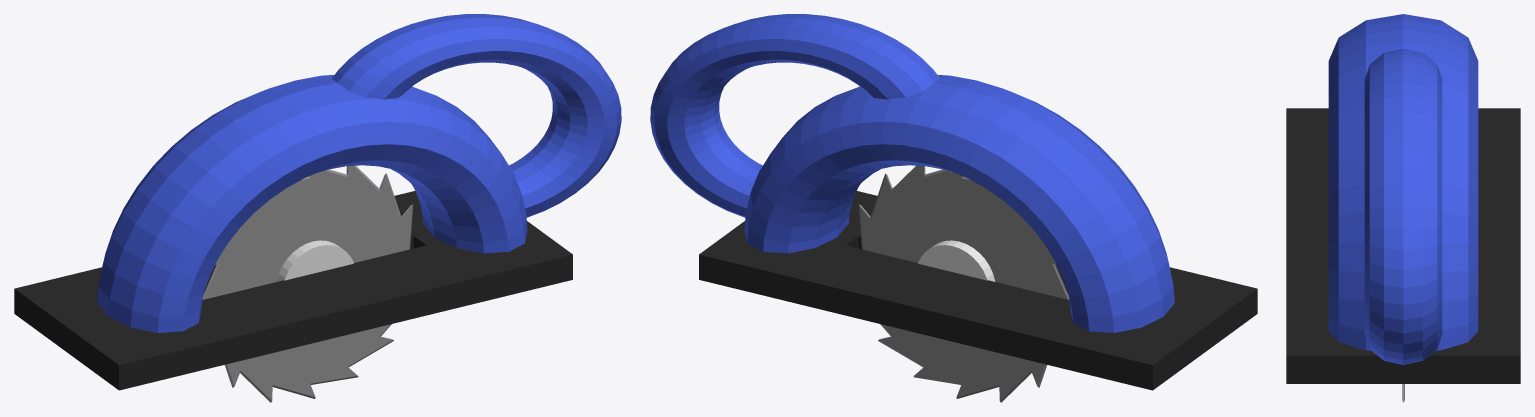
The model's file is bansaw.fbx.
The picture shows the model from 3 angles, left to right: view 1: azimuth 30°, elevation 25°; view 2: azimuth 150°, elevation 25°; view 3: azimuth 270°, elevation 25°; orthographic projection. The views are drawn at different scales.
Visible parts, largest first — view 1: Torus.001, Cube, Torus, Circle, Circle.001; view 2: Torus.001, Cube, Torus, Circle, Circle.001; view 3: Cube, Torus.001, Torus.
Part boxes in pixels (bbox=[...]): Torus.001: bbox=[97, 75, 527, 332]; Cube: bbox=[14, 191, 572, 390]; Torus: bbox=[332, 14, 621, 217]; Circle: bbox=[202, 165, 413, 402]; Circle.001: bbox=[276, 240, 353, 281]; Torus.001: bbox=[744, 75, 1174, 332]; Cube: bbox=[699, 191, 1257, 390]; Torus: bbox=[650, 14, 939, 217]; Circle: bbox=[858, 165, 1069, 402]; Circle.001: bbox=[918, 240, 995, 281]; Cube: bbox=[1286, 108, 1520, 383]; Torus.001: bbox=[1328, 14, 1478, 350]; Torus: bbox=[1364, 48, 1442, 364].
Size of the model in its own units: 455 by 274 by 150.
